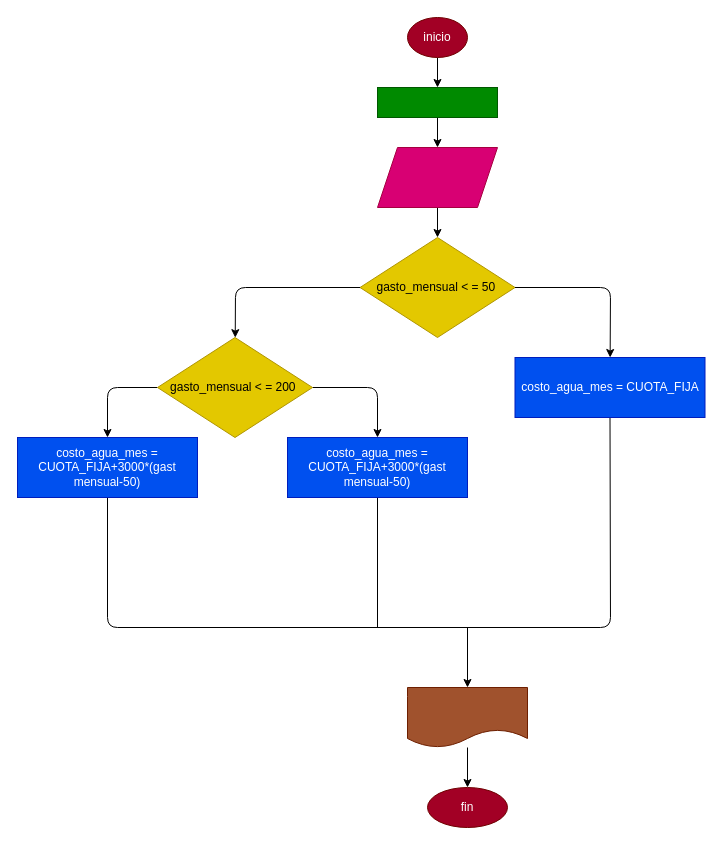
This 723x845 diagram has some shape labels left out. Each missing label, with the centre of its shape:
"costo_agua_mes" belongs at (467,717).
"cuota fija" belongs at (437,102).
"gasto_mensual" belongs at (437,177).
